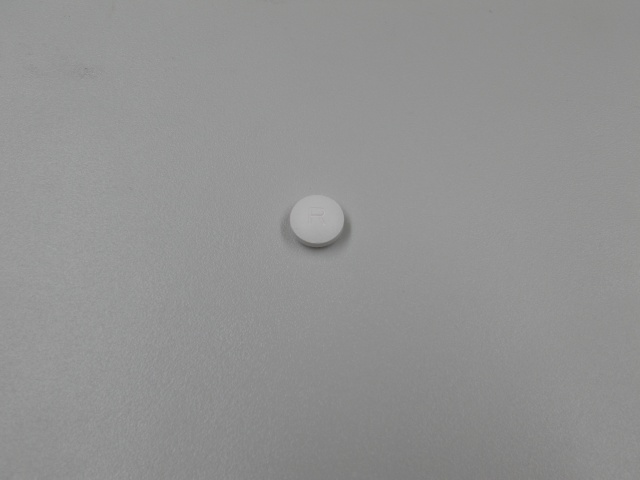R: (307, 204, 329, 228)
